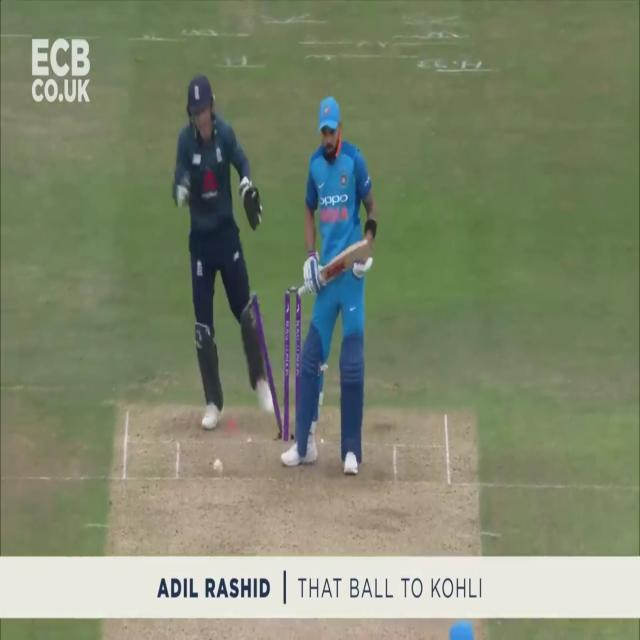ball: (214, 460, 222, 474)
